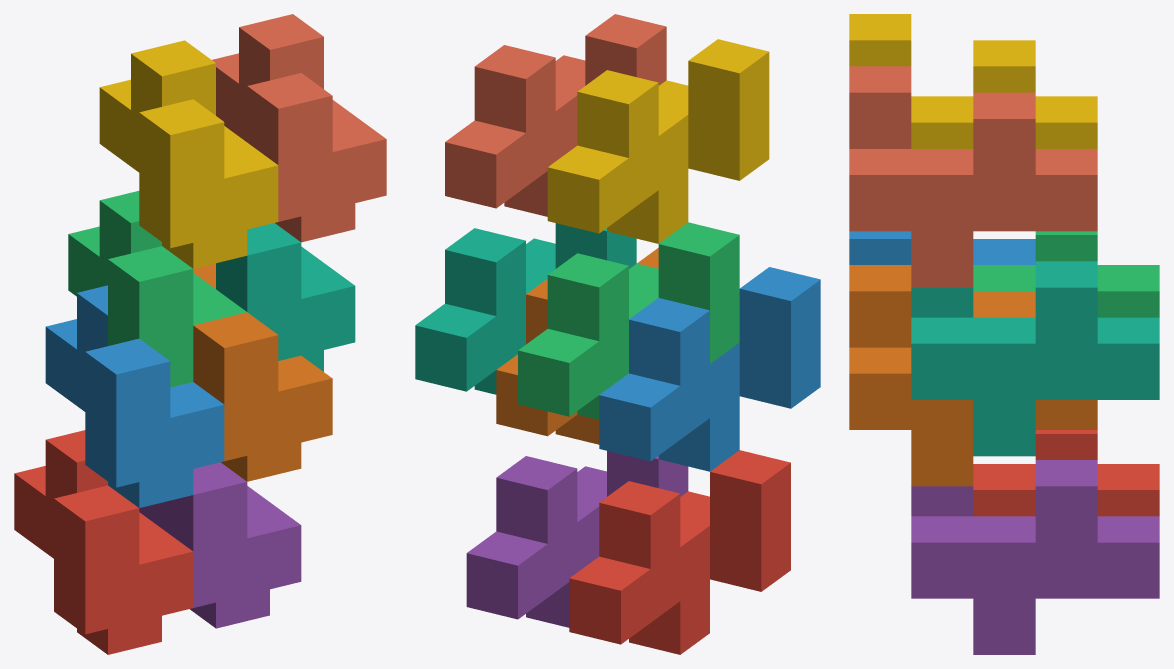
Rendered from tiling.obj.
The picture shows the model from 3 angles, left to right: view 1: azimuth 30°, elevation 25°; view 2: azimuth 150°, elevation 25°; view 3: azimuth 270°, elevation 25°; orthographic projection. The views are drawn at different scales.
Visible parts, largest first — view 1: copy_1_domain_4, copy_1_domain_1, copy_1_domain_8, copy_1_domain_2, copy_1_domain_6, copy_1_domain_3, copy_1_domain_5, copy_1_domain_7; view 2: copy_1_domain_4, copy_1_domain_1, copy_1_domain_2, copy_1_domain_3, copy_1_domain_8, copy_1_domain_5, copy_1_domain_7, copy_1_domain_6; view 3: copy_1_domain_8, copy_1_domain_7, copy_1_domain_5, copy_1_domain_6, copy_1_domain_4, copy_1_domain_1, copy_1_domain_3, copy_1_domain_2.
Boxes of the visible parts, x1=… form: copy_1_domain_4: x1=99, y1=40, x2=278, y2=268; copy_1_domain_1: x1=14, y1=430, x2=193, y2=654; copy_1_domain_8: x1=212, y1=14, x2=386, y2=242; copy_1_domain_2: x1=45, y1=285, x2=224, y2=507; copy_1_domain_6: x1=193, y1=263, x2=332, y2=481; copy_1_domain_3: x1=68, y1=191, x2=246, y2=387; copy_1_domain_5: x1=139, y1=462, x2=301, y2=628; copy_1_domain_7: x1=216, y1=223, x2=355, y2=371; copy_1_domain_4: x1=547, y1=39, x2=769, y2=243; copy_1_domain_1: x1=569, y1=450, x2=790, y2=654; copy_1_domain_2: x1=599, y1=267, x2=820, y2=471; copy_1_domain_3: x1=518, y1=222, x2=739, y2=419; copy_1_domain_8: x1=445, y1=14, x2=666, y2=216; copy_1_domain_5: x1=466, y1=451, x2=688, y2=627; copy_1_domain_7: x1=415, y1=223, x2=636, y2=394; copy_1_domain_6: x1=496, y1=248, x2=658, y2=444; copy_1_domain_8: x1=849, y1=66, x2=1097, y2=287; copy_1_domain_7: x1=911, y1=261, x2=1159, y2=456; copy_1_domain_5: x1=911, y1=460, x2=1159, y2=654; copy_1_domain_6: x1=849, y1=265, x2=1097, y2=486; copy_1_domain_4: x1=849, y1=14, x2=1097, y2=148; copy_1_domain_1: x1=973, y1=430, x2=1159, y2=516; copy_1_domain_3: x1=973, y1=231, x2=1159, y2=317; copy_1_domain_2: x1=849, y1=231, x2=1035, y2=264.
Size of the model in its own units: 5 by 10 by 5.
